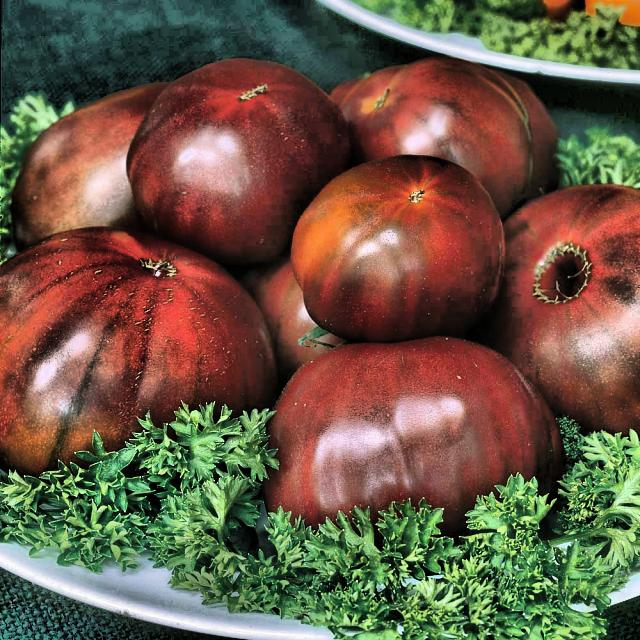tomato: (1, 5, 623, 624)
